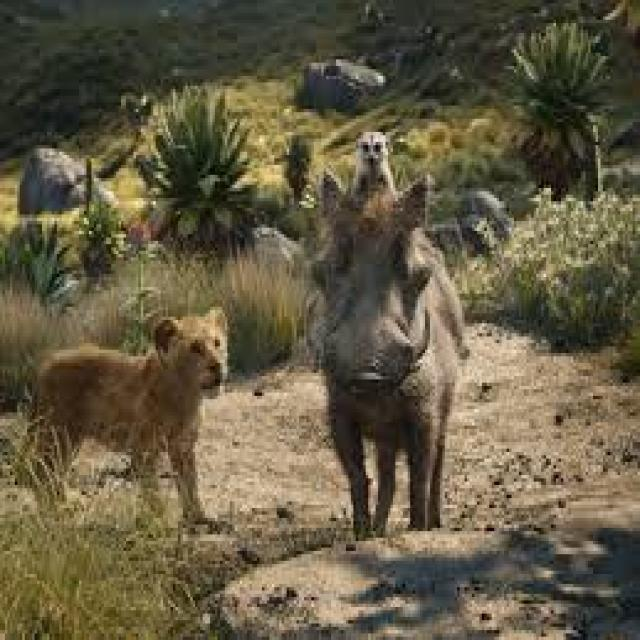Lion: (15, 303, 229, 533)
